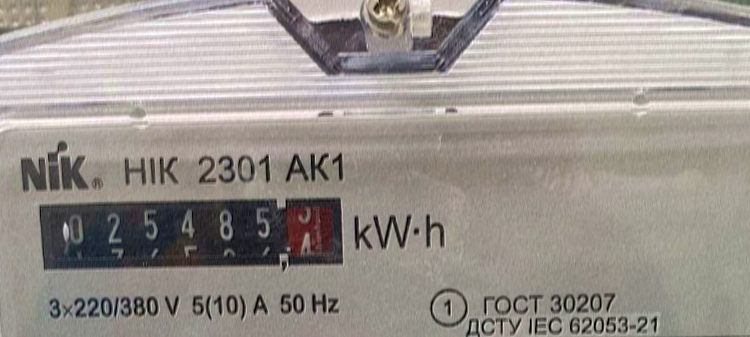0: (63, 211, 85, 247)
2: (102, 211, 123, 246)
4: (175, 206, 197, 241), (295, 230, 314, 259)
5: (250, 205, 272, 242), (138, 207, 159, 242)
8: (214, 206, 235, 244)
screen: (28, 191, 351, 282)
